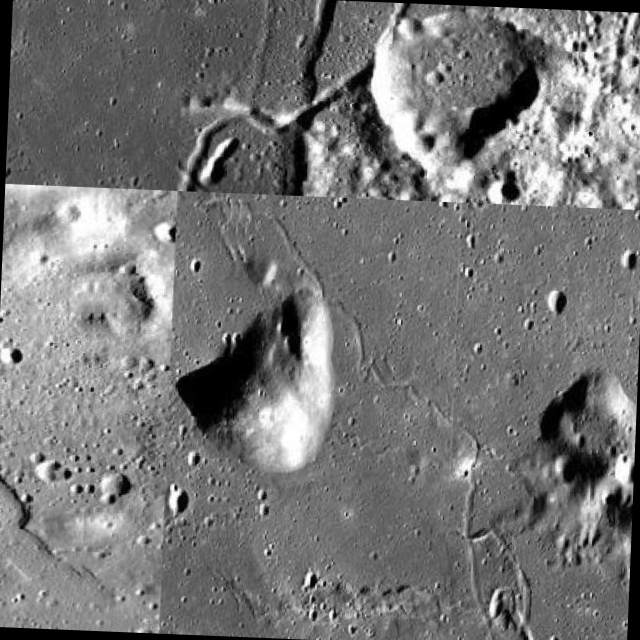crater: (172, 197, 534, 638), (172, 0, 409, 195), (0, 0, 171, 165), (0, 258, 78, 596), (275, 0, 364, 195), (231, 0, 352, 108), (479, 517, 543, 626)
